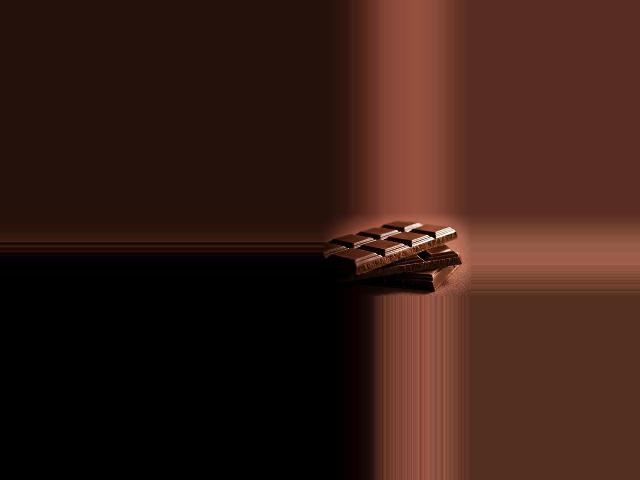chocolate: (327, 222, 460, 283)
